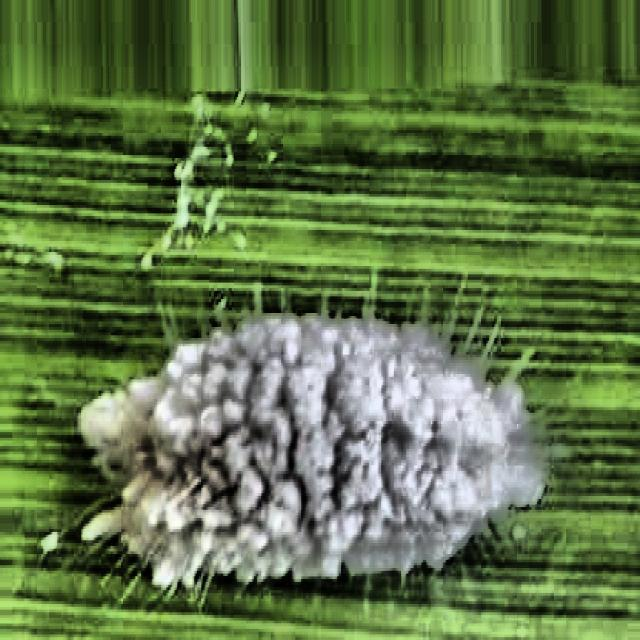Mealy-bug: (52, 204, 570, 626)
